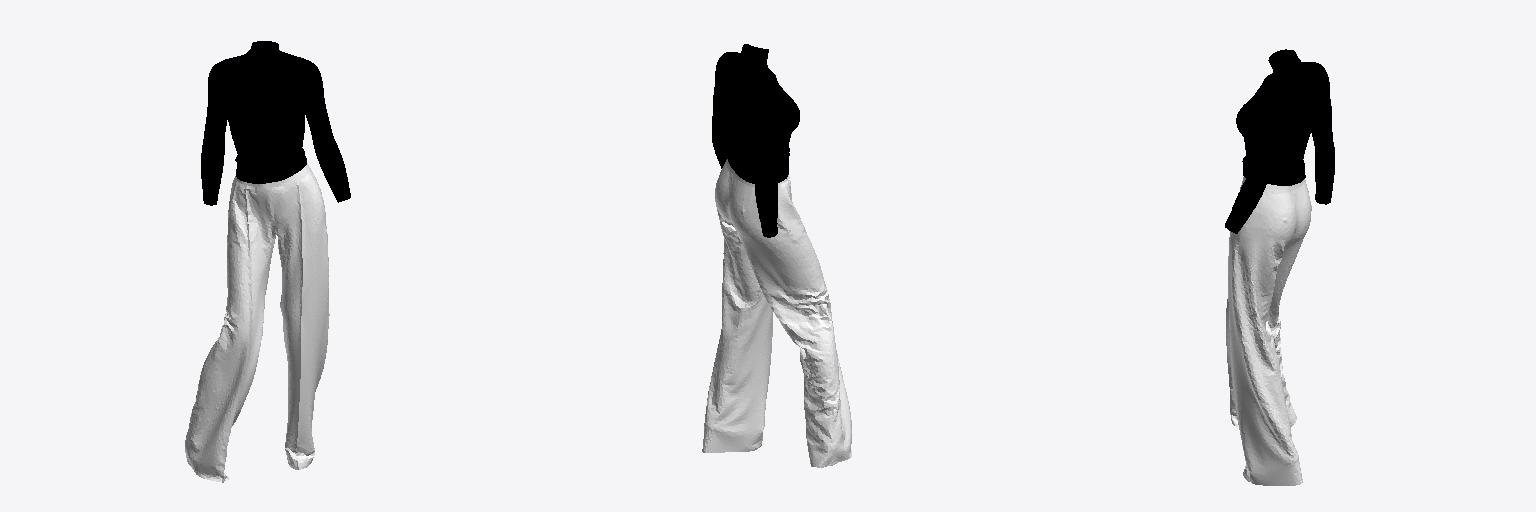
File: DA_HighNeck+WidePants_0000102.obj
The picture shows the model from 3 angles: view 1: azimuth 30°, elevation 25°; view 2: azimuth 150°, elevation 25°; view 3: azimuth 270°, elevation 25°; orthographic projection.
Bounding box in the file's own units: 0.5804 × 1.62 × 0.3931.